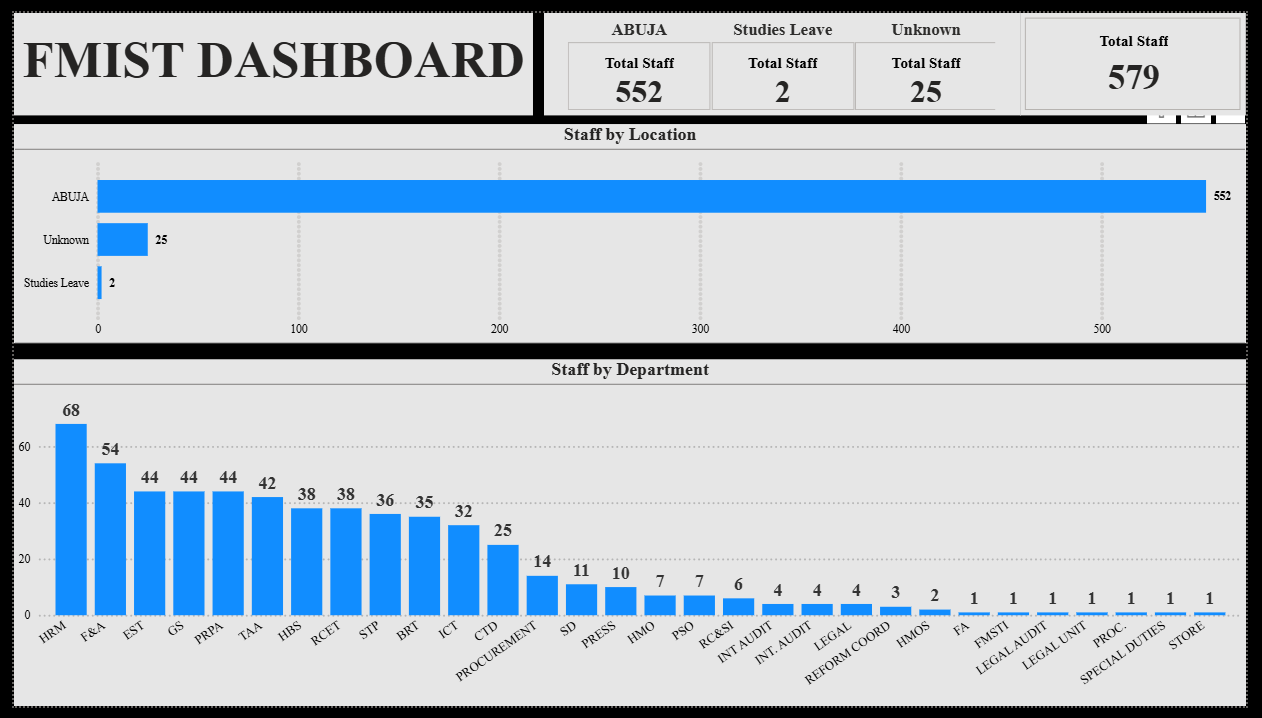

The page's visual inventory and layout, read from the dashboard file:
{"tool":"powerbi","page":{"name":"Page 1","canvas":[1280,720],"ordinal":0},"visuals":[{"type":"barChart","title":"Staff by Location","fields":{"Category":["OMNIBUS NOMINAL ROLL.Clean Location"],"Y":["OMNIBUS NOMINAL ROLL.Total Staff"]},"box":[0,116.2,1280.3,226.2],"z":0},{"type":"clusteredColumnChart","title":"Staff by Department","fields":{"Y":["OMNIBUS NOMINAL ROLL.Total Staff"],"Category":["OMNIBUS NOMINAL ROLL.DEPARTMENT"]},"box":[0,359.5,1280.3,360.7],"z":1000},{"type":"cardVisual","fields":{"Data":["OMNIBUS NOMINAL ROLL.Total Staff"],"Rows":["OMNIBUS NOMINAL ROLL.Clean Location"]},"box":[550.3,0,495,106.2],"z":2000},{"type":"cardVisual","fields":{"Data":["OMNIBUS NOMINAL ROLL.Total Staff"]},"box":[1045.3,0,234.8,106.2],"z":3000},{"type":"textbox","box":[0,0,539.5,106.2],"z":5000}]}

Visuals, with their boxes in screenshot pixels (x1, y1, x2, y2), scaled from the page's 1280x720 canvas onto the 1262x718 screenshot:
"Staff by Location" barChart: <box>0,116,1261,341</box>
"Staff by Department" clusteredColumnChart: <box>0,359,1261,717</box>
cardVisual - OMNIBUS NOMINAL ROLL.Total Staff x OMNIBUS NOMINAL ROLL.Clean Location: <box>543,0,1031,106</box>
cardVisual - OMNIBUS NOMINAL ROLL.Total Staff: <box>1031,0,1261,106</box>
textbox: <box>0,0,532,106</box>
